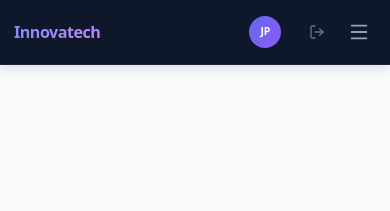
UserLayout › alterna el menú móvil con el botón hamburguesa
The width and height of the screenshot is (390, 211).
Click the button with class "user-hamburger" at (359, 32), box x1=343 y1=16 x2=376 y2=49
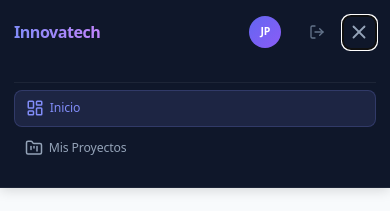
Now the element with class "open" is shown, box x1=14 y1=82 x2=376 y2=176
